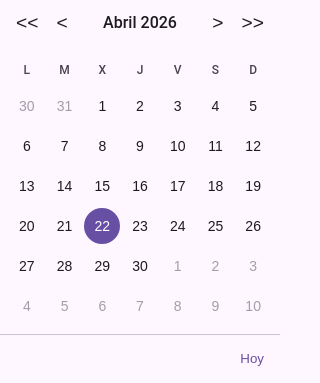
Test: DatePicker › should navigate to the previous and next month
This screenshot has width=320, height=383.
Click the button named "Mes siguiente". click: {"x": 218, "y": 23}
box: x1=204 y1=8 x2=232 y2=38
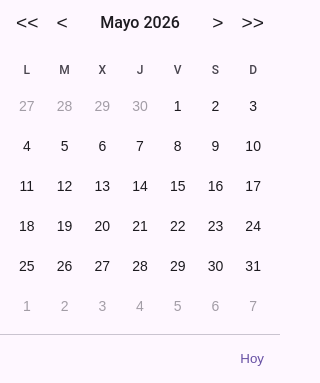
Expected: the text "Mayo 2026" is shown, x1=100 y1=11 x2=180 y2=35
Click the button named "Mes anterior". click: {"x": 62, "y": 23}
box: x1=48 y1=8 x2=76 y2=38
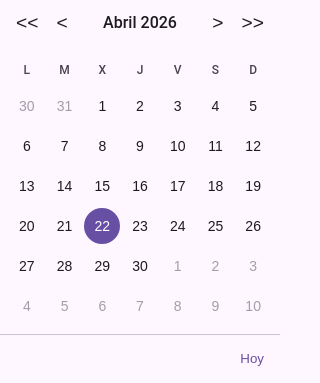
Click the button named "Mes anterior". click: {"x": 62, "y": 23}
box: x1=48 y1=8 x2=76 y2=38
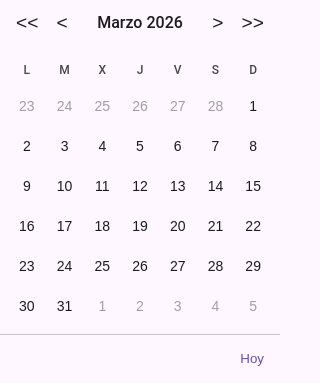
Expected: the text "Marzo 2026" is shown, x1=97 y1=11 x2=183 y2=35
